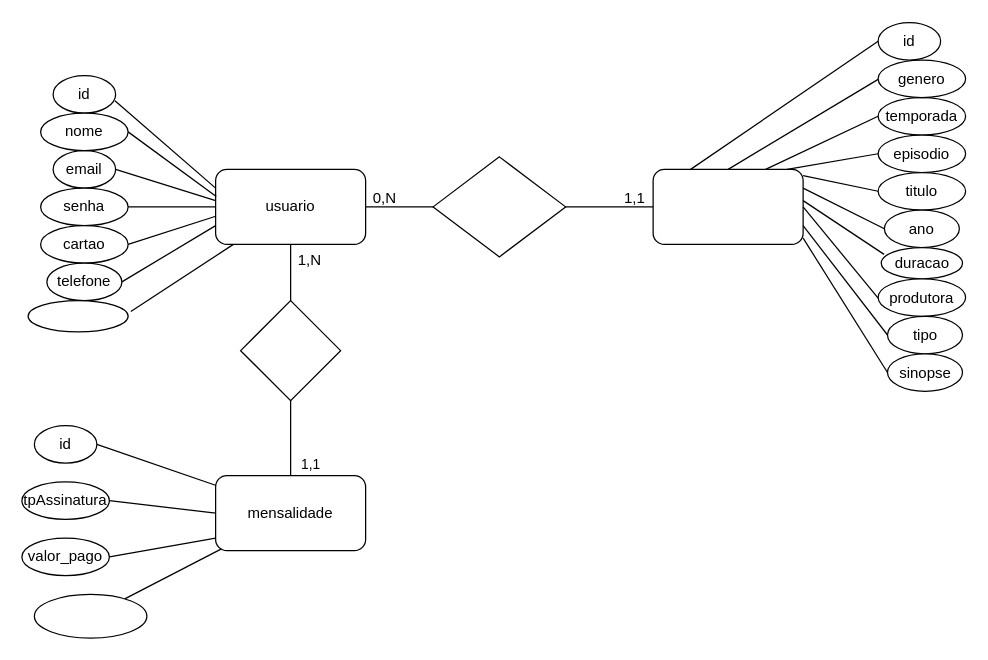
Some shapes in this 988 by 660 pixel diagram are drawn without their labels. The shapes that lost their labels are listed below. From the top down, each one's centre as x and y in pixels, then its label:
At point (499, 206): "avalia".
At point (727, 206): "video".
At point (77, 315): "cod_endereco".
At point (290, 350): "paga".
At point (90, 615): "dataPagamento".
